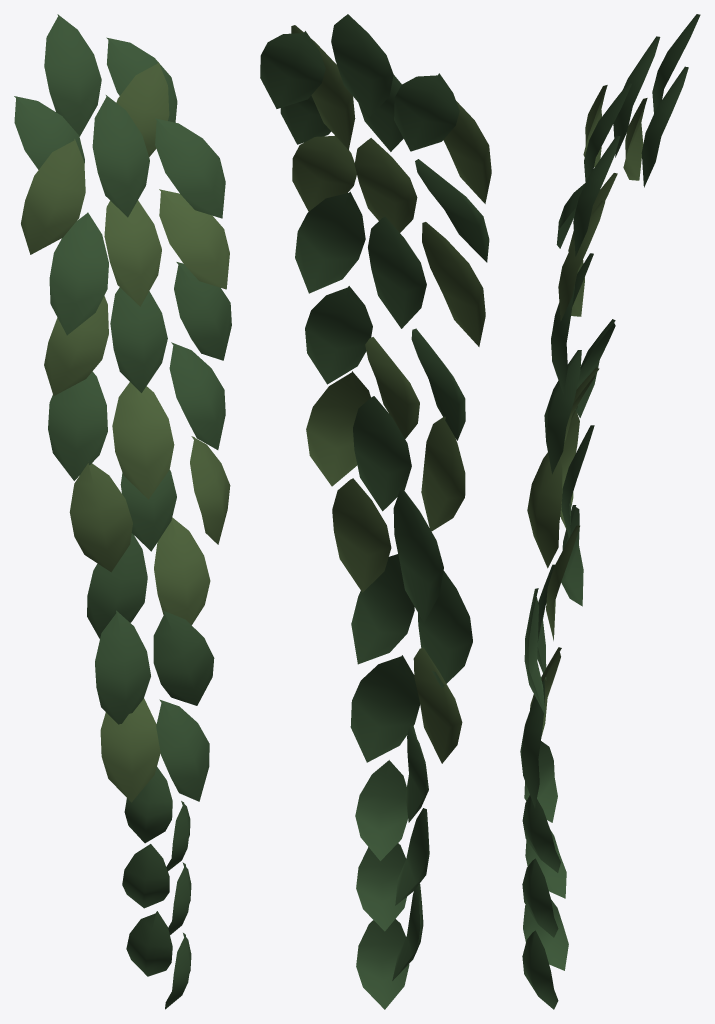
The model's file is enredadera_2.fbx.
The picture shows the model from 3 angles, left to right: view 1: azimuth 30°, elevation 25°; view 2: azimuth 150°, elevation 25°; view 3: azimuth 270°, elevation 25°; orthographic projection. The views are drawn at different scales.
Visible parts, largest first — view 1: Hoja54; view 2: Hoja54; view 3: Hoja54.
Boxes of the visible parts, bbox=[...] form: Hoja54: bbox=[14, 14, 231, 1009]; Hoja54: bbox=[260, 14, 491, 1009]; Hoja54: bbox=[520, 14, 700, 1009].
Bounding box in the file's own units: 1.6 × 7.39 × 1.24.
